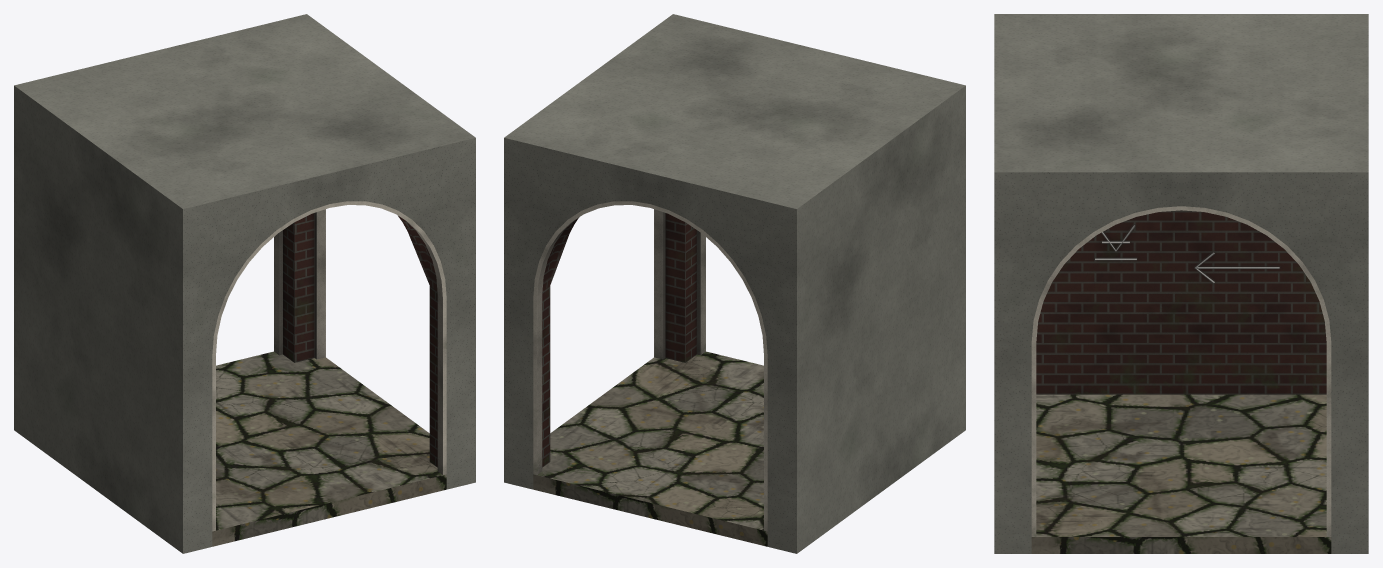
Rendered from TunnelJunction.fbx.
The picture shows the model from 3 angles, left to right: view 1: azimuth 30°, elevation 25°; view 2: azimuth 150°, elevation 25°; view 3: azimuth 270°, elevation 25°; orthographic projection. The views are drawn at different scales.
Visible parts, largest first — view 1: TunnelJunction_Wall, TunnelJunction_Floor, TunnelJunction_Main; view 2: TunnelJunction_Wall, TunnelJunction_Floor, TunnelJunction_Main; view 3: TunnelJunction_Wall, TunnelJunction_Main, TunnelJunction_Floor.
Part boxes in pixels (x1=…): TunnelJunction_Wall: x1=14, y1=14, x2=475, y2=553; TunnelJunction_Floor: x1=212, y1=351, x2=446, y2=546; TunnelJunction_Main: x1=212, y1=201, x2=446, y2=531; TunnelJunction_Wall: x1=504, y1=14, x2=965, y2=553; TunnelJunction_Floor: x1=533, y1=351, x2=767, y2=546; TunnelJunction_Main: x1=533, y1=201, x2=767, y2=531; TunnelJunction_Wall: x1=994, y1=14, x2=1368, y2=553; TunnelJunction_Main: x1=1031, y1=206, x2=1331, y2=536; TunnelJunction_Floor: x1=1031, y1=394, x2=1331, y2=553.
Bounding box in the file's own units: 800 × 900 × 800.
